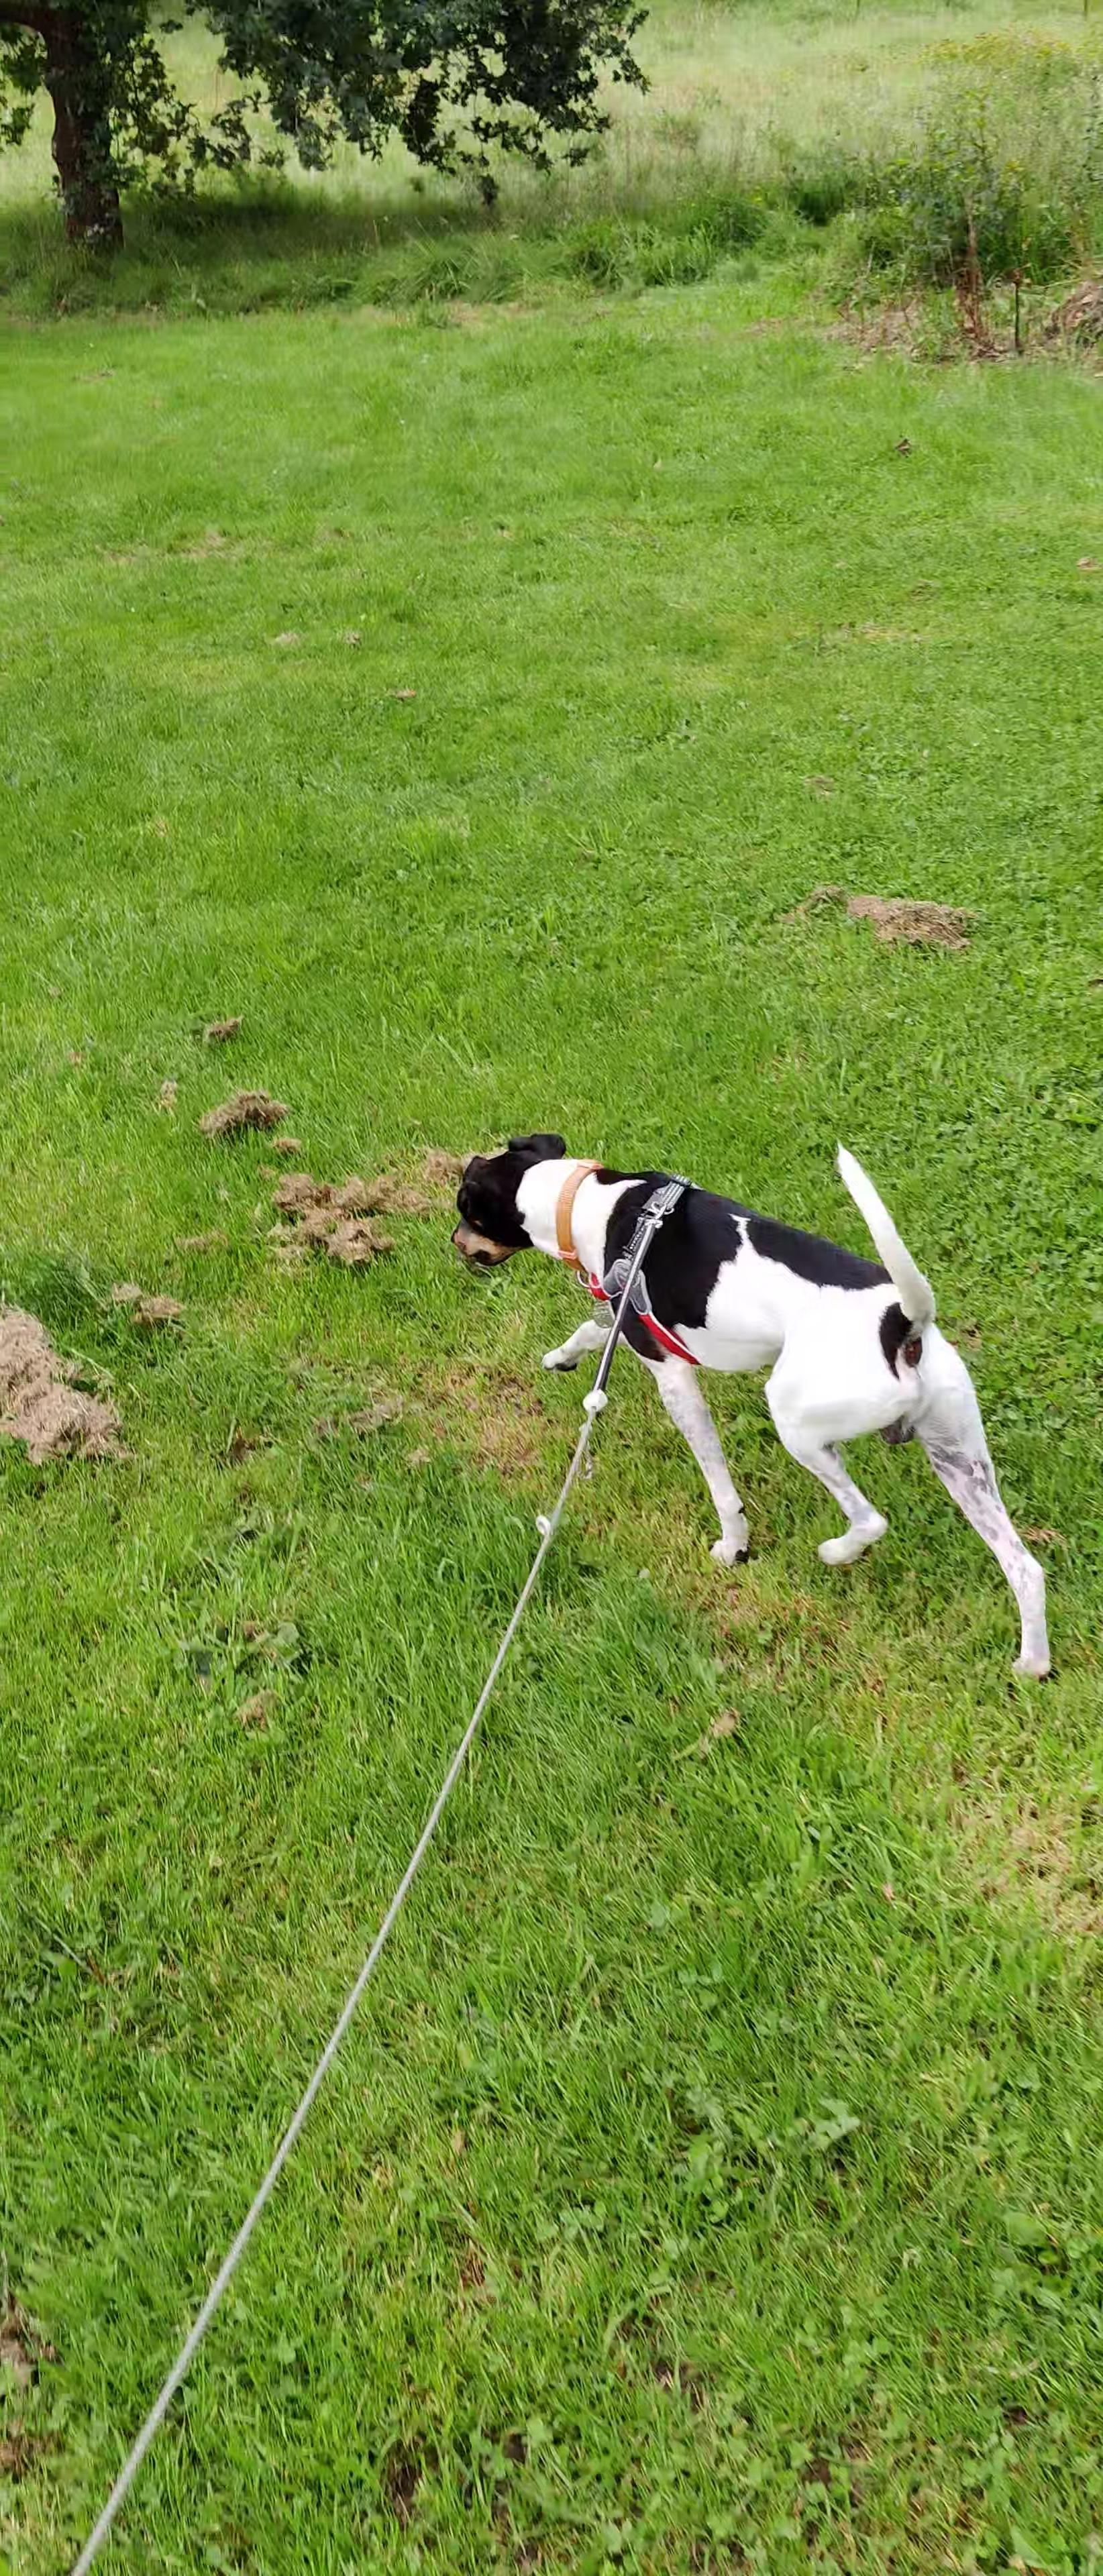Dog: (434, 1104, 1064, 1686)
